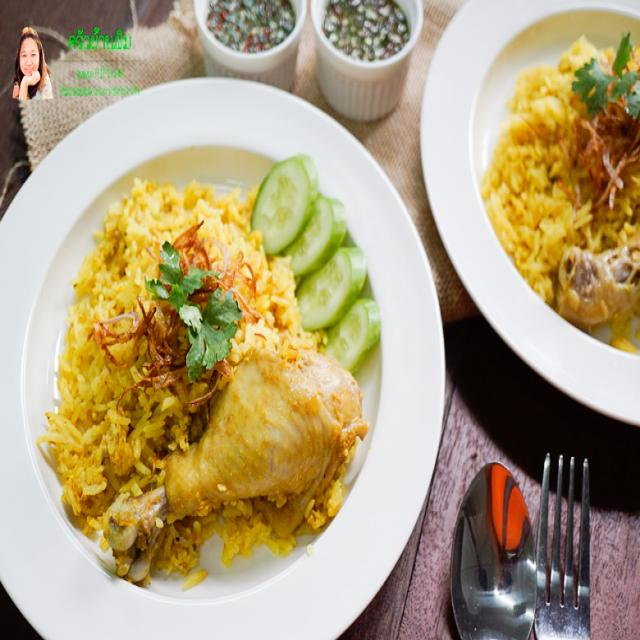Carbohydrate: (47, 164, 358, 578)
Kaow-Mokkai: (2, 79, 444, 640)
Protein: (110, 341, 365, 569)
Vegetable: (250, 137, 386, 378)
